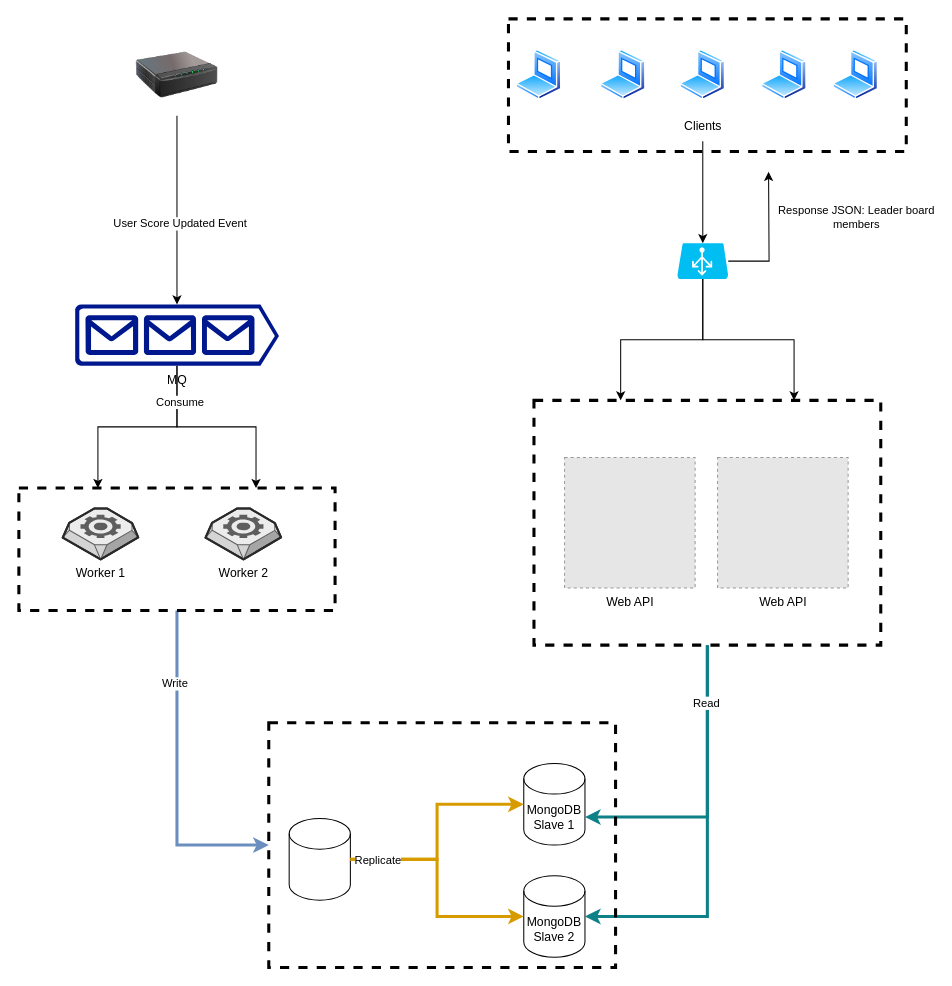
Image size: 952x986. Some labels were removed from this diagram. Grey dashed boxes stand in for pictures. The shapes that lost their labels are listed below. From the top down, each one's box as (x1, y1, x2, y2) in pixels, then its label:
(136, 34, 217, 115): Game Server
(677, 243, 728, 278): NGINX
(288, 818, 350, 900): MongoDB Master
